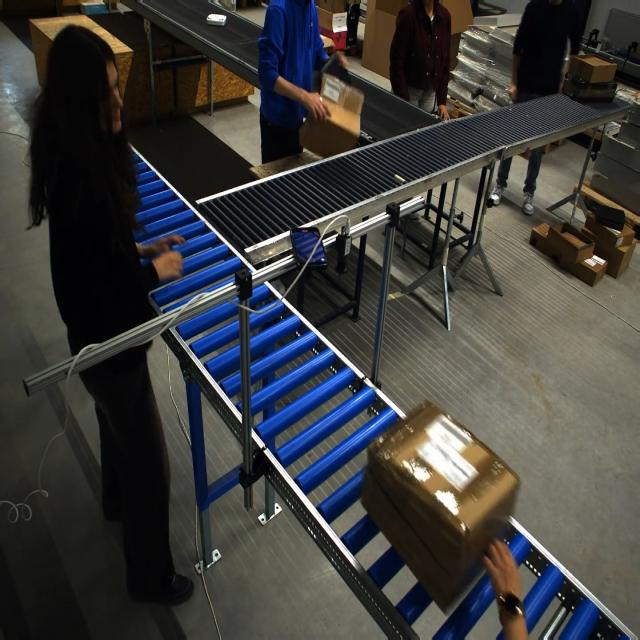box: (364, 410, 519, 612), (311, 72, 361, 157)
product: (206, 14, 227, 26)
